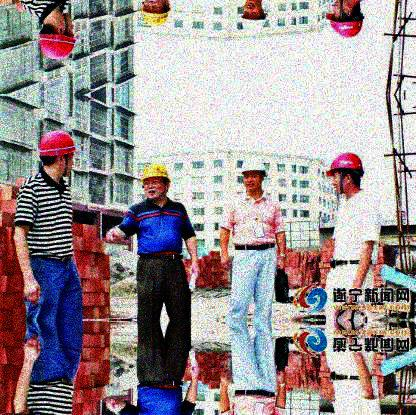helmet: (38, 10, 75, 60), (38, 132, 74, 179), (326, 153, 365, 193), (325, 1, 365, 37), (142, 163, 167, 202), (240, 156, 264, 193), (241, 1, 267, 34), (140, 1, 169, 29)
